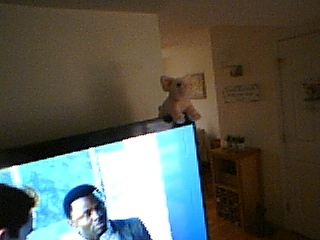piggy: (156, 73, 203, 124)
